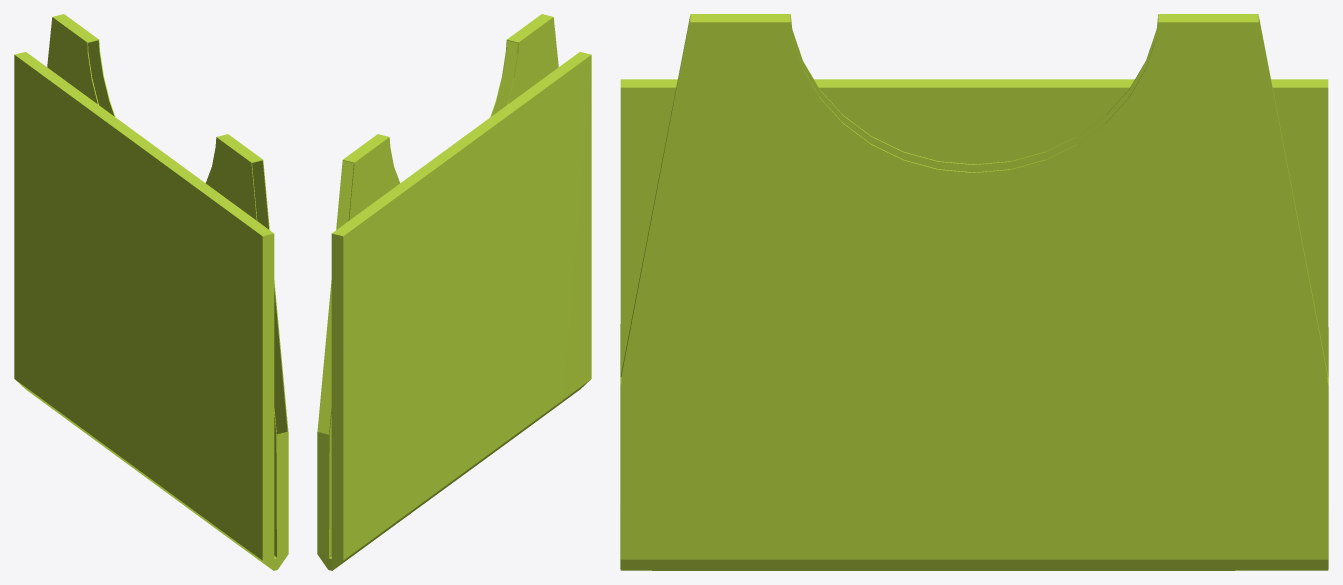
File: Chasuble_Plie 1.fbx
3 views of the same model, side by side, from view 1: azimuth 30°, elevation 25°; view 2: azimuth 150°, elevation 25°; view 3: azimuth 270°, elevation 25° (orthographic). The views are drawn at different scales.
Visible parts, largest first — view 1: Chasuble_Plié; view 2: Chasuble_Plié; view 3: Chasuble_Plié.
Part boxes in pixels (x1,y1,x2,y2): Chasuble_Plié: [14, 14, 288, 570]; Chasuble_Plié: [317, 14, 591, 570]; Chasuble_Plié: [620, 14, 1328, 570].
Bounding box in the file's own units: 3.45 × 48.43 × 55.95.
